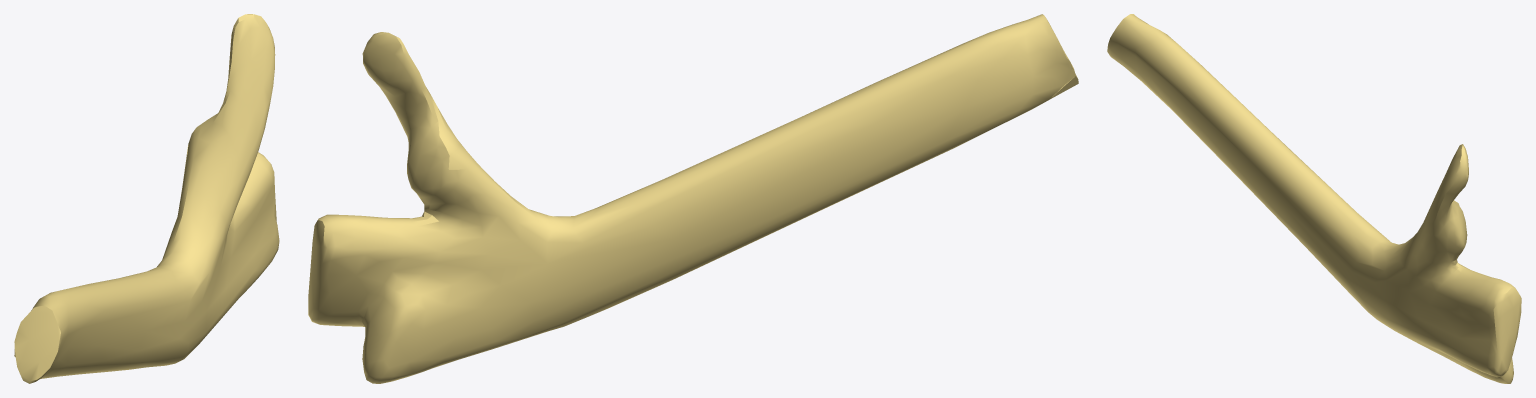
Rendered from fma53402_mm2609m.glb.
3 renders of one model, left to right at view 1: azimuth 30°, elevation 25°; view 2: azimuth 150°, elevation 25°; view 3: azimuth 270°, elevation 25°, orthographic. The views are drawn at different scales.
Parts seen in each view (by area): view 1: FMA53402_MM2609M; view 2: FMA53402_MM2609M; view 3: FMA53402_MM2609M.
Boxes of the visible parts, x1=… form: FMA53402_MM2609M: x1=14, y1=14, x2=279, y2=383; FMA53402_MM2609M: x1=308, y1=14, x2=1078, y2=383; FMA53402_MM2609M: x1=1107, y1=14, x2=1521, y2=383.
Size of the model in its own units: 0.0137 by 0.00818 by 0.0126.
